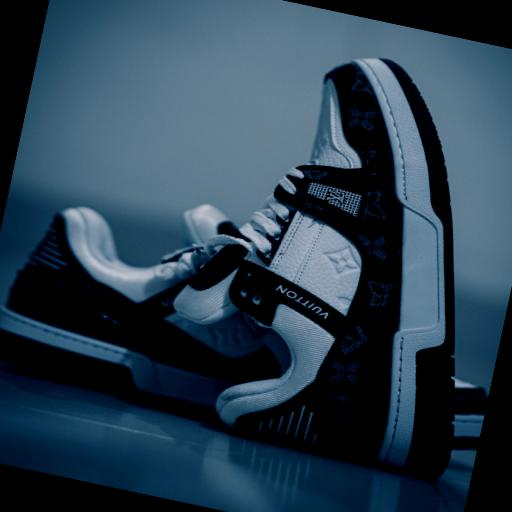shoe: (175, 59, 454, 477), (0, 207, 280, 408)
